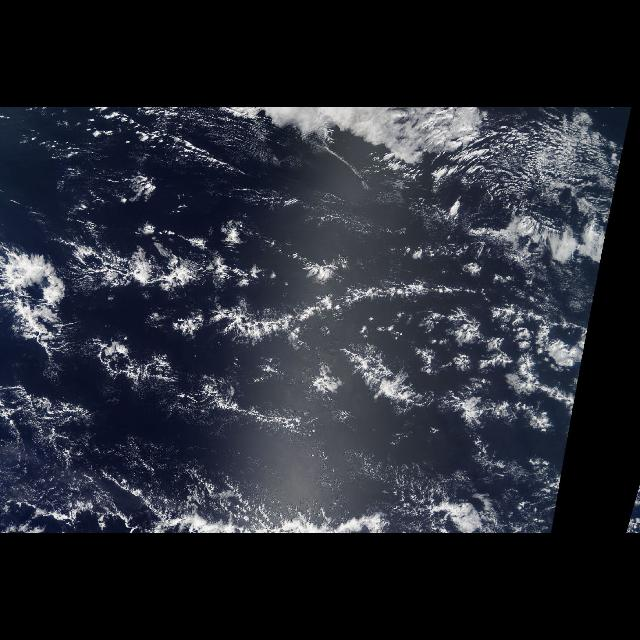Fish: (82, 277, 530, 465)
Flower: (1, 223, 609, 445)
